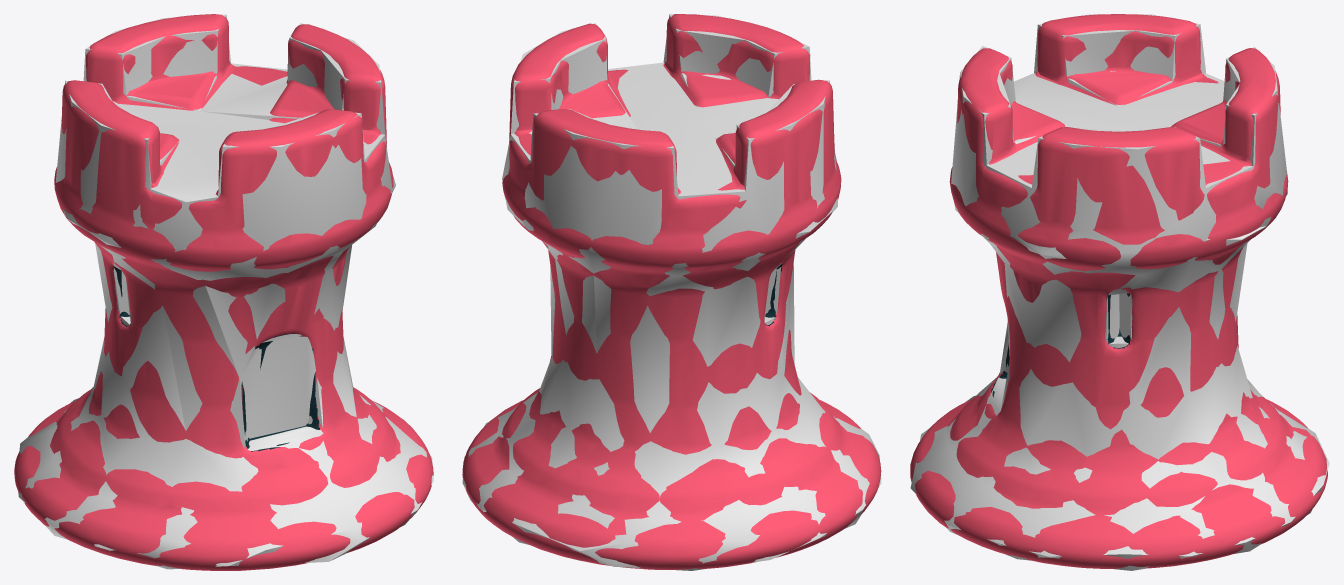
Rendered from rook.glb.
The picture shows the model from 3 angles, left to right: view 1: azimuth 30°, elevation 25°; view 2: azimuth 150°, elevation 25°; view 3: azimuth 270°, elevation 25°; orthographic projection.
Visible parts, largest first — view 1: rook, shadow; view 2: rook, shadow; view 3: rook, shadow.
Part boxes in pixels (x1,y1,x2,y2): rook: (14, 14, 433, 570); shadow: (18, 14, 433, 569); rook: (462, 14, 881, 569); shadow: (462, 14, 881, 570); rook: (910, 14, 1327, 569); shadow: (910, 14, 1329, 570).
Bounding box in the file's own units: 0.8772 × 0.94 × 0.8742.
